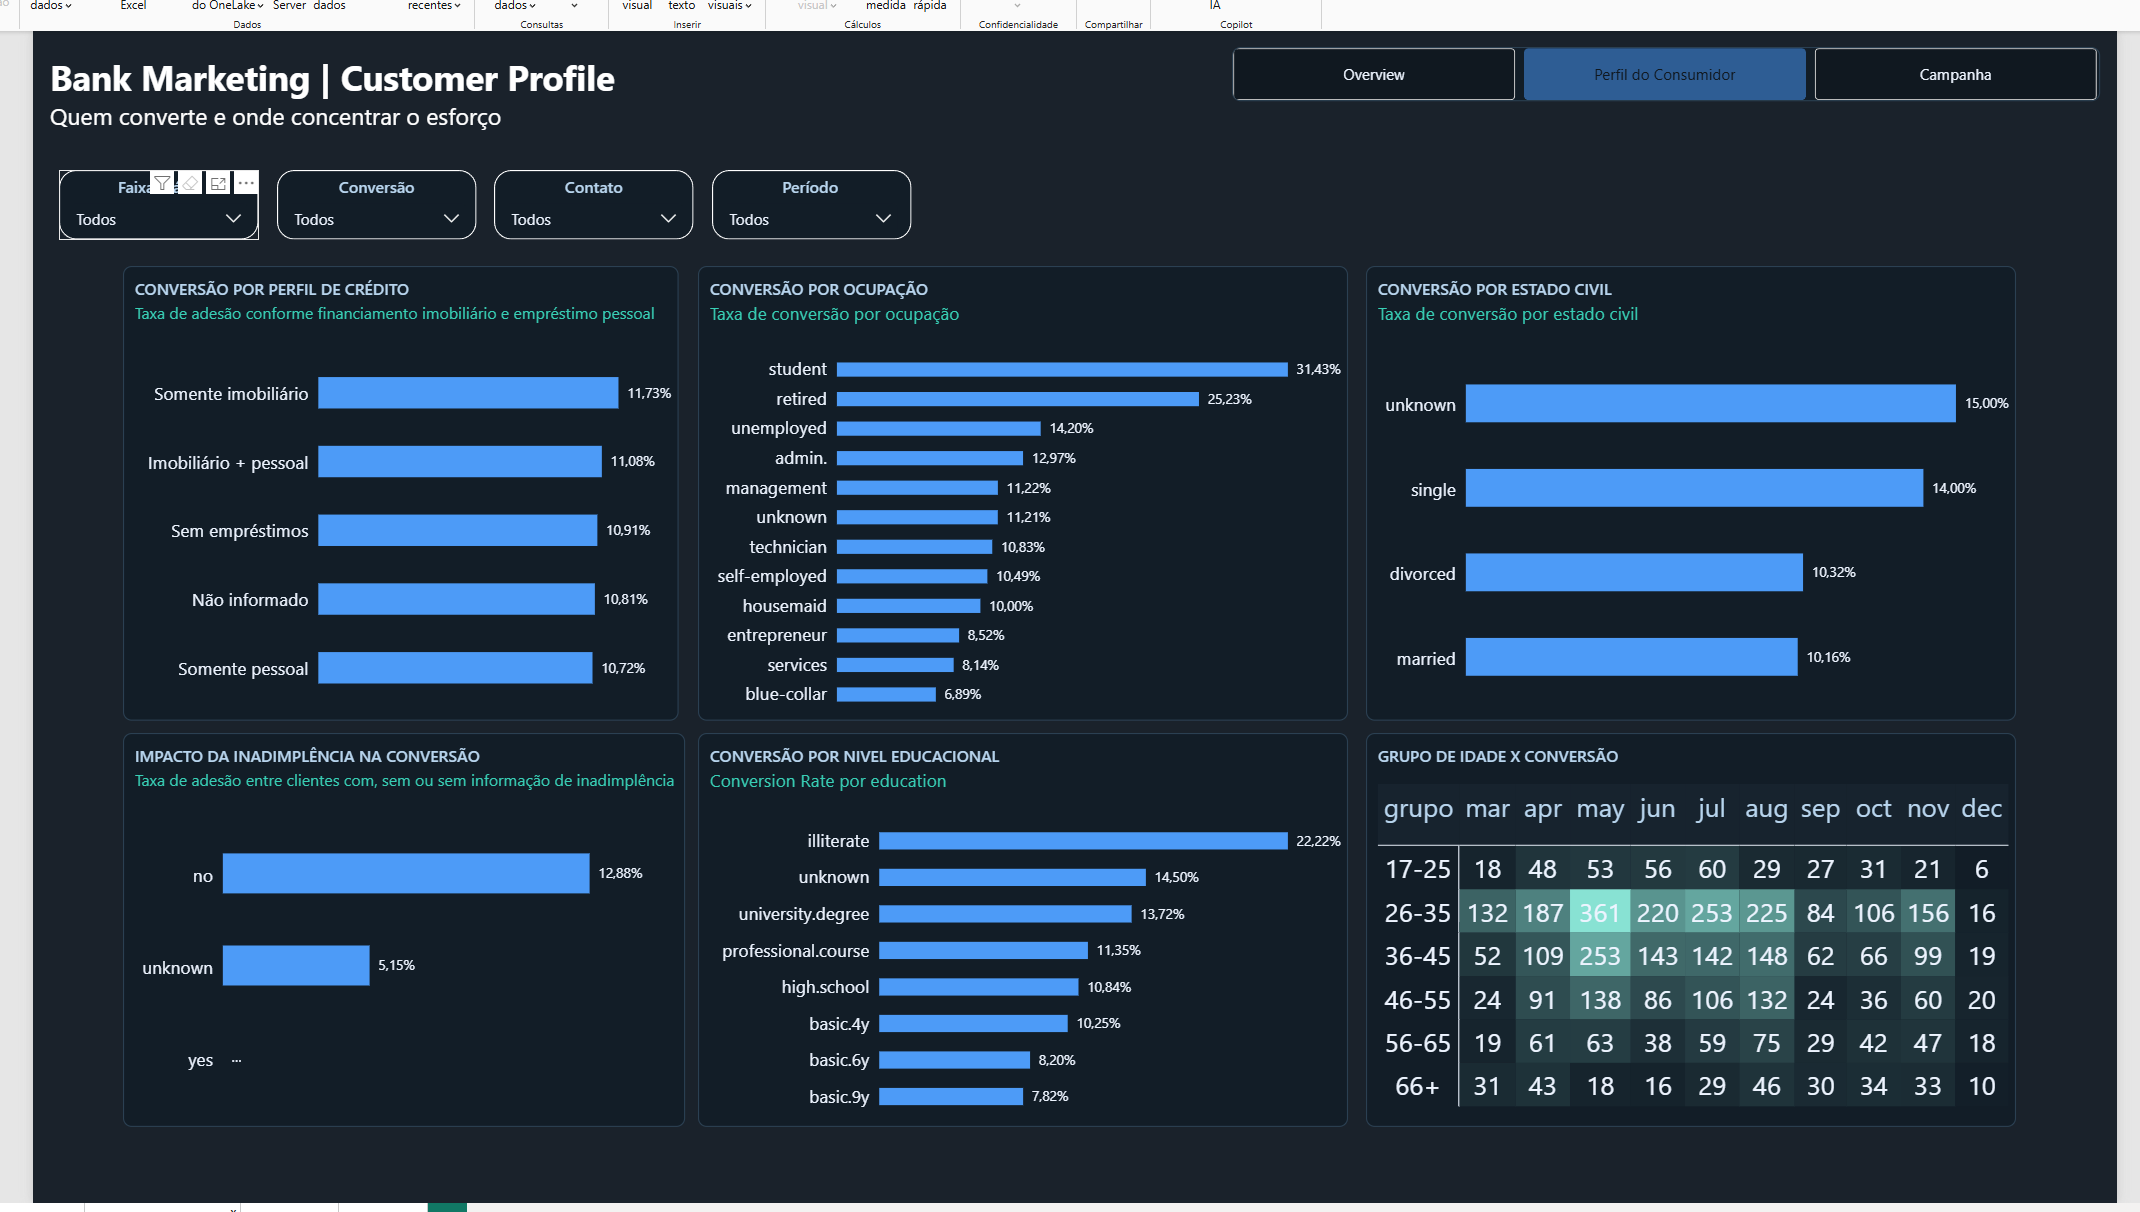

What the dashboard file says about the page in this screenshot:
{"tool":"powerbi","page":{"name":"Perfil do Consumidor","canvas":[1920,1080],"ordinal":1},"visuals":[{"type":"shape","box":[224.7,128.1,183.8,64.1],"z":0},{"type":"shape","box":[425.2,128.1,183.8,64.1],"z":1000},{"type":"shape","box":[625.8,128.1,183.8,64.1],"z":2000},{"type":"shape","box":[24.1,128.1,183.8,64.1],"z":3000},{"type":"textbox","box":[15.7,20.3,575,85.7],"z":4000},{"type":"slicer","title":"Contato","fields":{"Values":["vw_bank_marketing.contact"]},"box":[425.2,128.1,183.8,64.1],"z":5000},{"type":"slicer","title":"Período","fields":{"Values":["vw_bank_marketing.month"]},"box":[625.8,128.1,181,64],"z":6000},{"type":"slicer","title":"Faixa etária","fields":{"Values":["vw_bank_marketing.age_group"]},"box":[24.1,128.1,183.8,64.1],"z":7000},{"type":"slicer","title":"Conversão","fields":{"Values":["vw_bank_marketing.Status Conversão"]},"box":[224.7,128.1,183.8,64.1],"z":8000},{"type":"pivotTable","title":"GRUPO DE IDADE X CONVERSÃO","fields":{"Columns":["vw_bank_marketing.month"],"Rows":["vw_bank_marketing.age_group"],"Values":["Sum(vw_bank_marketing.converted)"]},"box":[1228.1,646.6,598.6,363.3],"z":9000},{"type":"clusteredBarChart","title":"CONVERSÃO POR NIVEL EDUCACIONAL","fields":{"Category":["vw_bank_marketing.education"],"Y":["vw_bank_marketing.Conversion Rate"]},"box":[612.4,646.6,598.6,363.3],"z":10000},{"type":"clusteredBarChart","title":"CONVERSÃO POR OCUPAÇÃO","fields":{"Category":["vw_bank_marketing.job"],"Y":["vw_bank_marketing.Conversion Rate"]},"box":[612.4,216.3,598.6,418.8],"z":11000},{"type":"clusteredBarChart","title":"CONVERSÃO POR ESTADO CIVIL","fields":{"Category":["vw_bank_marketing.marital"],"Y":["vw_bank_marketing.Conversion Rate"]},"box":[1228.1,216.3,598.6,418.8],"z":12000},{"type":"clusteredBarChart","title":"CONVERSÃO POR PERFIL DE CRÉDITO","fields":{"Category":["vw_bank_marketing.Perfil de Crédito"],"Y":["vw_bank_marketing.Conversion Rate"]},"box":[82.6,216.3,511.6,418.8],"z":13000},{"type":"clusteredBarChart","title":"IMPACTO DA INADIMPLÊNCIA NA CONVERSÃO","fields":{"Category":["vw_bank_marketing.credit_default"],"Y":["vw_bank_marketing.Conversion Rate"]},"box":[82.9,646.9,517.9,363.1],"z":14000},{"type":"pageNavigator","box":[1104.7,15,800.3,50.1],"z":15000}]}

Visuals, with their boxes on the page's 1920x1080 design canvas (x1, y1, x2, y2). These are canvas units, not pixel positions in the 2140x1212 screenshot, which may show the page scaled, cropped or inside an application window:
shape: locate(225, 128, 408, 192)
shape: locate(425, 128, 609, 192)
shape: locate(626, 128, 810, 192)
shape: locate(24, 128, 208, 192)
textbox: locate(16, 20, 591, 106)
"Contato" slicer: locate(425, 128, 609, 192)
"Período" slicer: locate(626, 128, 807, 192)
"Faixa etária" slicer: locate(24, 128, 208, 192)
"Conversão" slicer: locate(225, 128, 408, 192)
"GRUPO DE IDADE X CONVERSÃO" pivotTable: locate(1228, 647, 1827, 1010)
"CONVERSÃO POR NIVEL EDUCACIONAL" clusteredBarChart: locate(612, 647, 1211, 1010)
"CONVERSÃO POR OCUPAÇÃO" clusteredBarChart: locate(612, 216, 1211, 635)
"CONVERSÃO POR ESTADO CIVIL" clusteredBarChart: locate(1228, 216, 1827, 635)
"CONVERSÃO POR PERFIL DE CRÉDITO" clusteredBarChart: locate(83, 216, 594, 635)
"IMPACTO DA INADIMPLÊNCIA NA CONVERSÃO" clusteredBarChart: locate(83, 647, 601, 1010)
pageNavigator: locate(1105, 15, 1905, 65)
